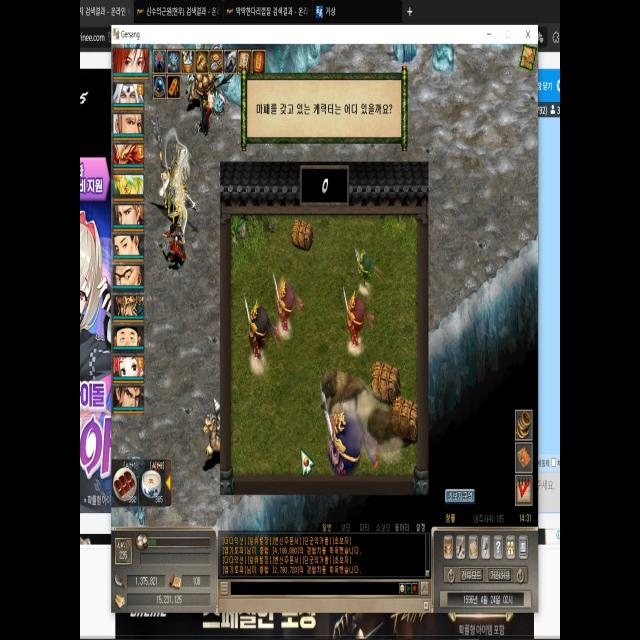character_brown: (320, 390, 380, 479), (248, 298, 280, 377), (275, 270, 303, 342), (346, 289, 374, 358), (354, 242, 376, 298)
